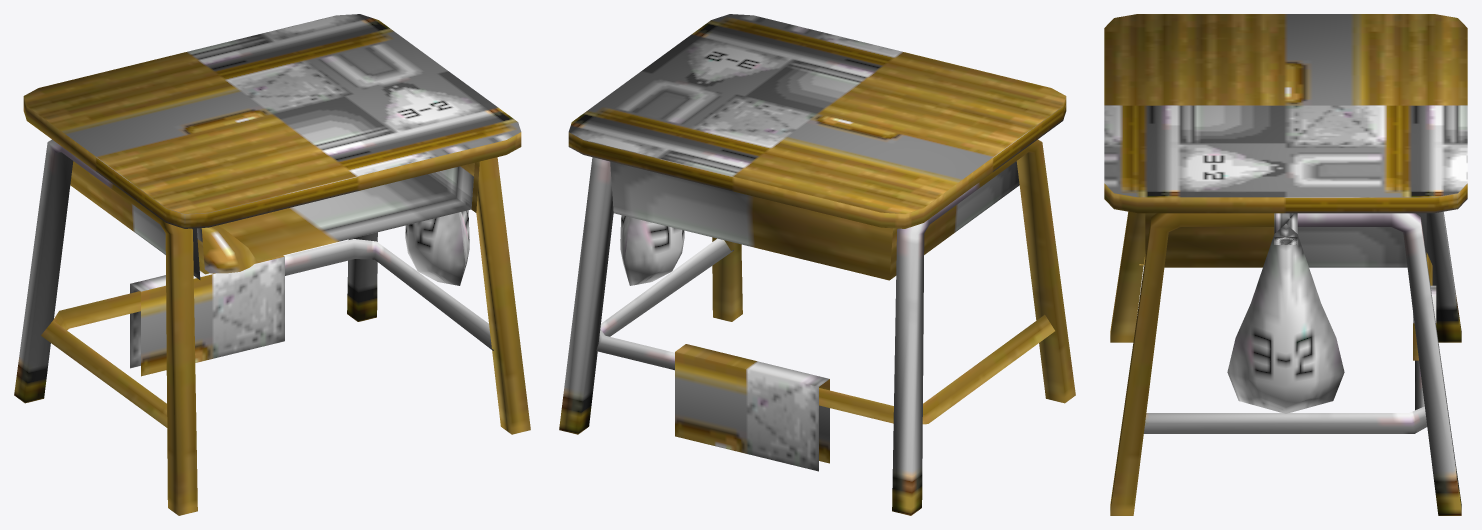
Rendered from int_sch_tableS.dae.
3 views of the same model, side by side, from view 1: azimuth 30°, elevation 25°; view 2: azimuth 150°, elevation 25°; view 3: azimuth 270°, elevation 25° (orthographic). The views are drawn at different scales.
Visible parts, largest first — view 1: int_sch_tableS; view 2: int_sch_tableS; view 3: int_sch_tableS.
Part boxes in pixels (bbox=[...]): int_sch_tableS: bbox=[14, 14, 530, 515]; int_sch_tableS: bbox=[559, 14, 1075, 515]; int_sch_tableS: bbox=[1104, 14, 1467, 515].
Size of the model in its own units: 31.27 by 24 by 24.8.
Materials: 1 (1 with a texture image).
